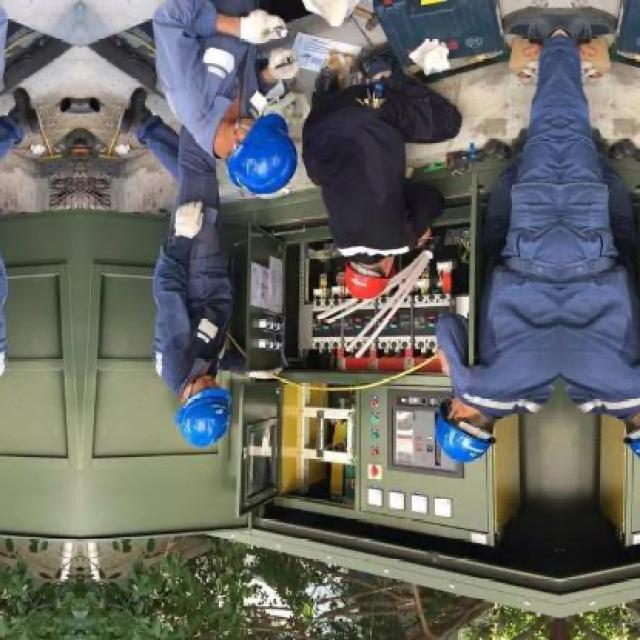con casco: (222, 83, 319, 247), (394, 378, 514, 510), (136, 374, 261, 474), (328, 219, 416, 320)
